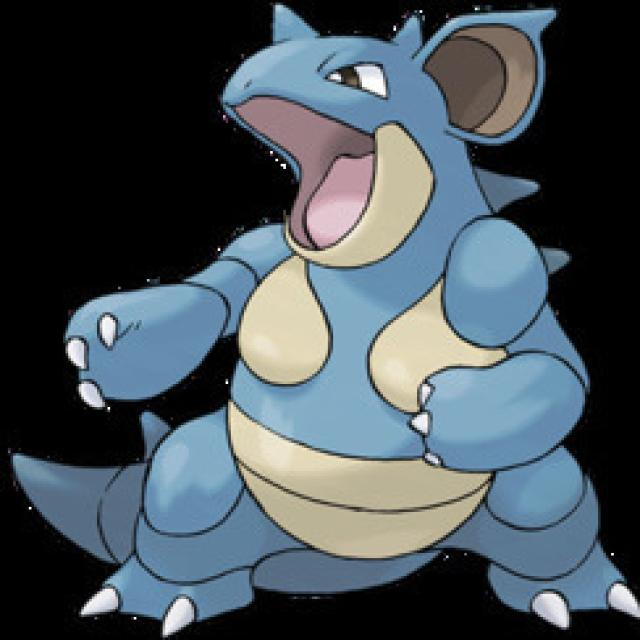Nidoqueen: (62, 5, 629, 617)
